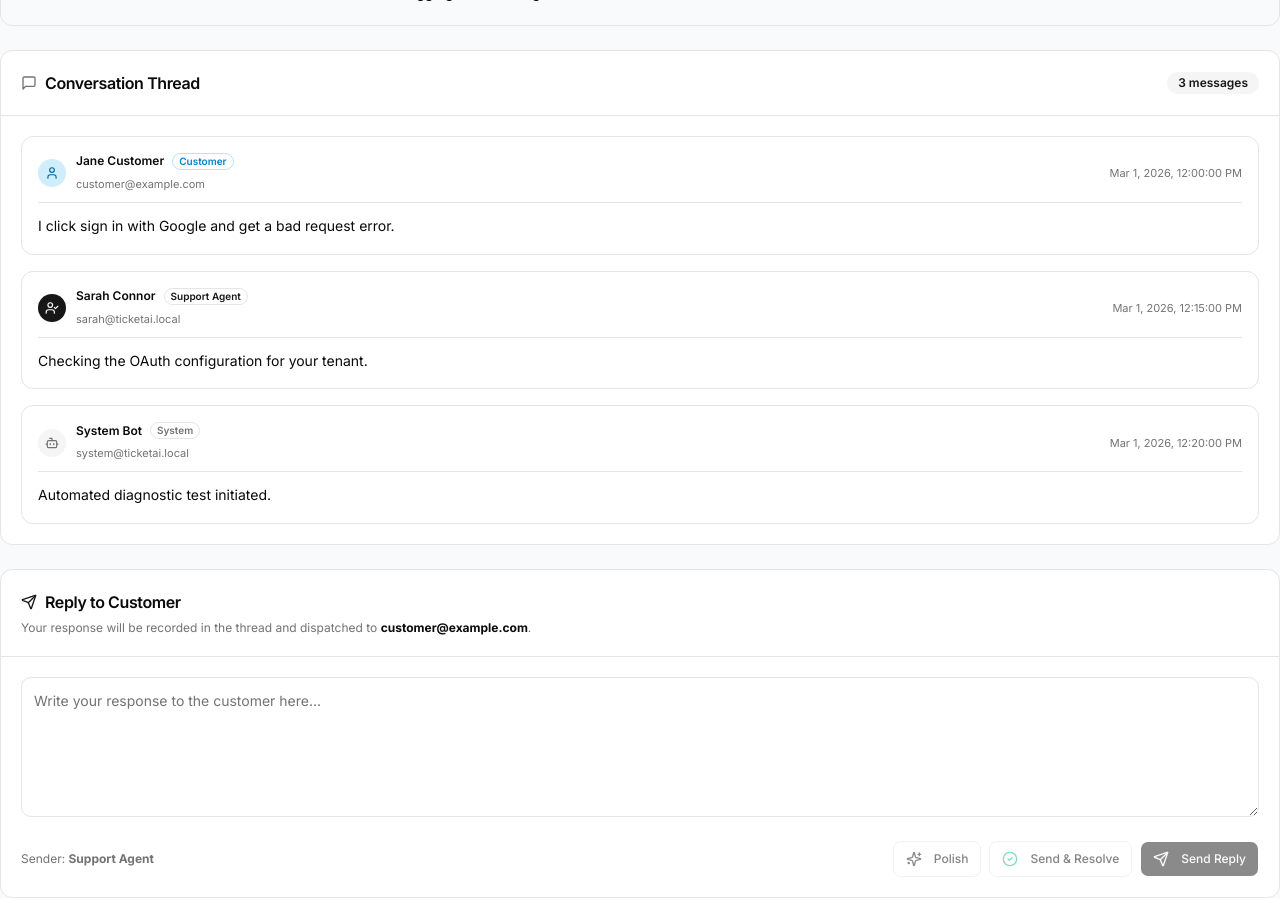
Test: ConversationThread Component Tests › 3. Reply Composer & Interactions › disables send buttons when reply text is empty and enables them after typing
The image size is (1280, 898).
(page scrolled)
Expected: the button "Send Reply" is disabled, [1140, 841, 1259, 877]
Expected: the button "Send & Resolve" is disabled, [989, 841, 1132, 877]
Type text into textarea
Step 1. Type "Hello customer" into the text box with placeholder "Write your response to the customer here..." → (640, 747), box [21, 677, 1259, 817]
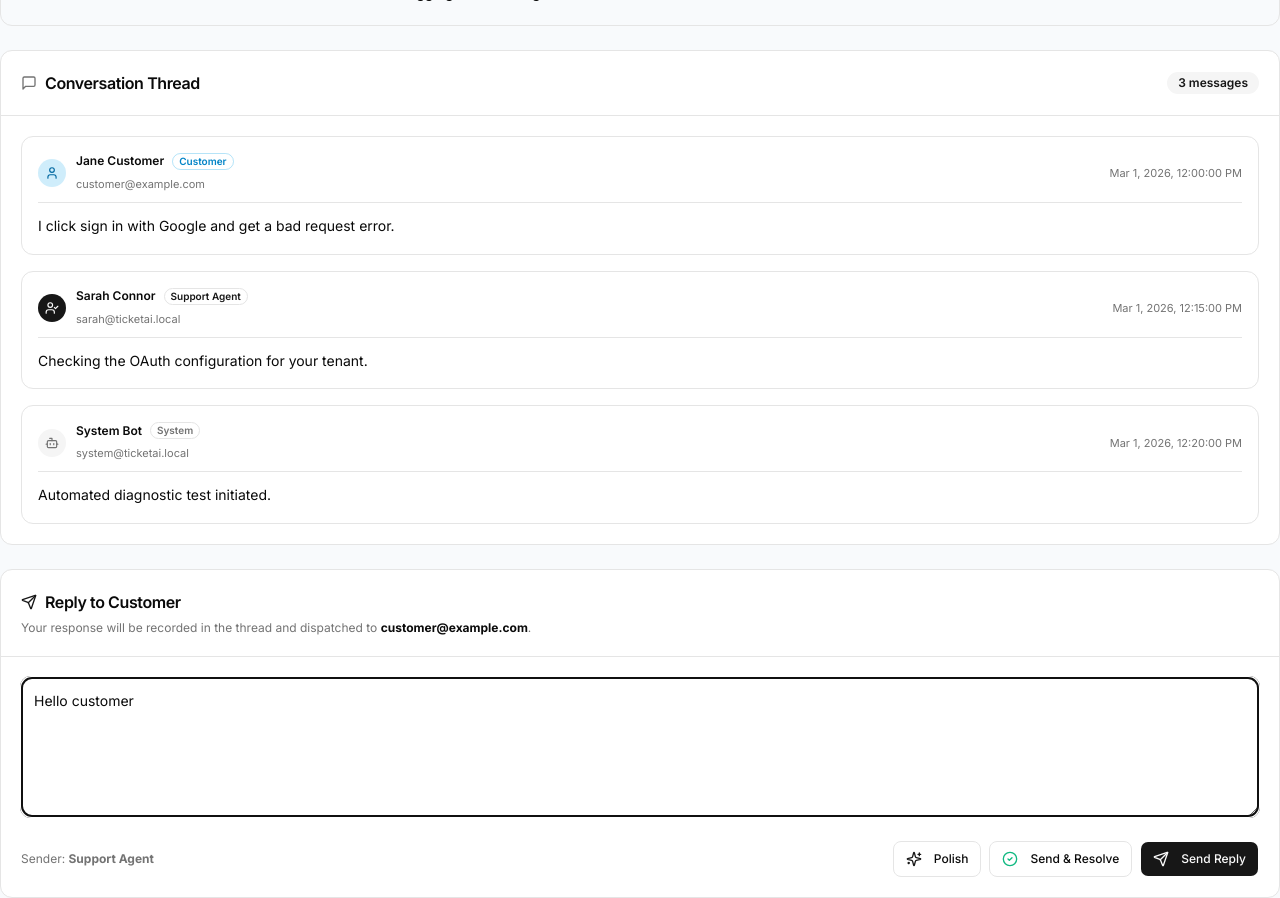
Now the button "Send Reply" is enabled, box [1140, 841, 1259, 877]
Now the button "Send & Resolve" is enabled, box [989, 841, 1132, 877]
